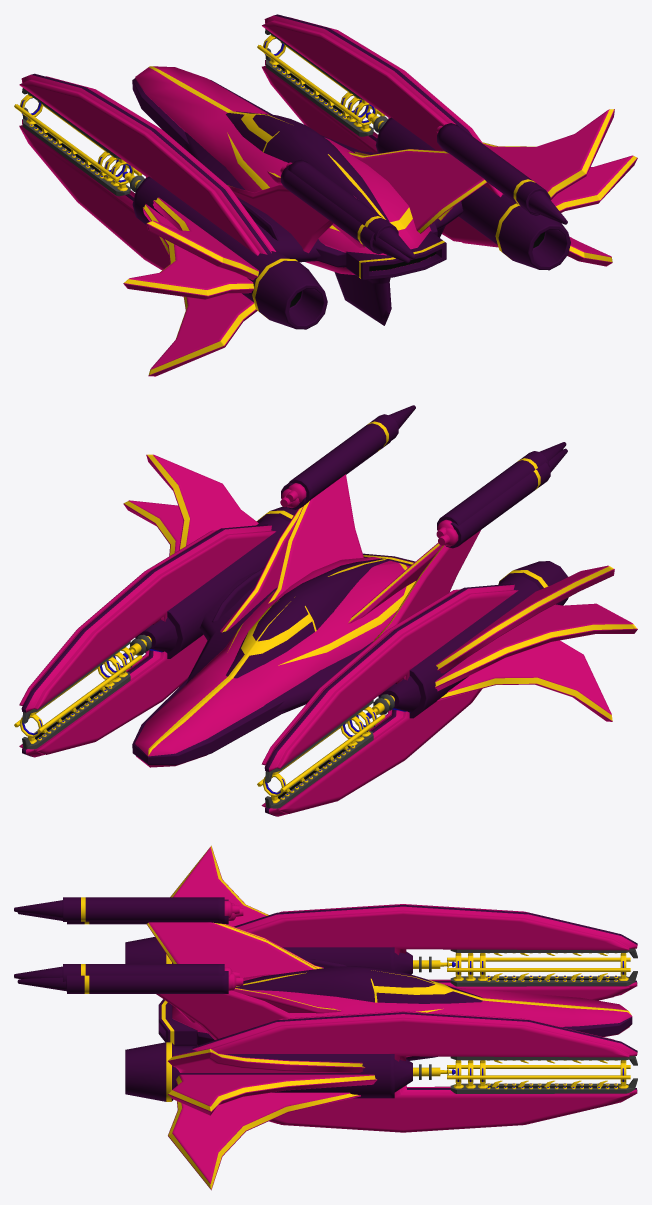
Rendered from AlienStarfighter21.obj.
3 renders of one model, top to bottom at view 1: azimuth 30°, elevation 25°; view 2: azimuth 150°, elevation 25°; view 3: azimuth 270°, elevation 25°, orthographic. The views are drawn at different scales.
Visible parts, largest first — view 1: Cylinder.003_Cylinder.005, Sphere_Sphere.002, Cylinder.001_Cylinder.006, Cube.005, Cylinder.004_Cylinder.002, Cube.002_Cube.003, Cube.003_Cube.004, Cube.004_Cube.002, Sphere.001_Sphere.003, Cube.001, Cube.006, Cylinder.005_Cylinder.011 (+4 smaller); view 2: Cylinder.003_Cylinder.005, Sphere_Sphere.002, Cylinder.001_Cylinder.006, Cube.005, Cube.002_Cube.003, Cube.003_Cube.004, Cylinder.004_Cylinder.002, Sphere.001_Sphere.003, Cube.004_Cube.002, Cube.001, Cylinder.002_Cylinder.001, Cube.006 (+3 smaller); view 3: Cylinder.003_Cylinder.005, Cylinder.001_Cylinder.006, Sphere_Sphere.002, Cylinder.004_Cylinder.002, Cube.003_Cube.004, Cube.004_Cube.002, Sphere.001_Sphere.003, Cube.005, Cube.006, Cylinder.005_Cylinder.011, Cube.002_Cube.003, Cube.001 (+3 smaller).
Boxes of the visible parts, bbox=[...] form: Cylinder.003_Cylinder.005: bbox=[19, 14, 503, 270]; Sphere_Sphere.002: bbox=[132, 66, 446, 279]; Cylinder.001_Cylinder.006: bbox=[122, 112, 570, 329]; Cube.005: bbox=[146, 109, 614, 280]; Cylinder.004_Cylinder.002: bbox=[286, 123, 566, 259]; Cube.002_Cube.003: bbox=[123, 155, 637, 299]; Cube.003_Cube.004: bbox=[267, 149, 487, 247]; Cube.004_Cube.002: bbox=[148, 236, 612, 376]; Sphere.001_Sphere.003: bbox=[226, 111, 389, 221]; Cube.001: bbox=[227, 150, 455, 253]; Cube.006: bbox=[22, 29, 373, 196]; Cylinder.005_Cylinder.011: bbox=[280, 147, 567, 262]; Cylinder.003_Cylinder.005: bbox=[19, 524, 518, 816]; Sphere_Sphere.002: bbox=[132, 553, 415, 767]; Cylinder.001_Cylinder.006: bbox=[123, 506, 568, 718]; Cube.005: bbox=[146, 454, 614, 673]; Cube.002_Cube.003: bbox=[123, 500, 637, 691]; Cube.003_Cube.004: bbox=[267, 474, 442, 623]; Cylinder.004_Cylinder.002: bbox=[286, 405, 566, 537]; Sphere.001_Sphere.003: bbox=[226, 558, 389, 678]; Cube.004_Cube.002: bbox=[437, 640, 612, 721]; Cube.001: bbox=[220, 507, 480, 644]; Cylinder.002_Cylinder.001: bbox=[186, 581, 372, 713]; Cube.006: bbox=[22, 641, 373, 808]; Cylinder.003_Cylinder.005: bbox=[192, 904, 637, 1132]; Cylinder.001_Cylinder.006: bbox=[125, 937, 455, 1101]; Sphere_Sphere.002: bbox=[158, 974, 632, 1057]; Cylinder.004_Cylinder.002: bbox=[14, 897, 239, 981]; Cube.003_Cube.004: bbox=[146, 922, 343, 1022]; Cube.004_Cube.002: bbox=[168, 1092, 360, 1190]; Sphere.001_Sphere.003: bbox=[236, 966, 483, 1003]; Cube.005: bbox=[168, 845, 365, 1072]; Cube.006: bbox=[450, 948, 637, 1093]; Cylinder.005_Cylinder.011: bbox=[17, 899, 243, 993]; Cube.002_Cube.003: bbox=[168, 1074, 377, 1115]; Cube.001: bbox=[158, 924, 323, 1039].
Bounding box in the file's own units: 6.8 × 2.25 × 7.88.
